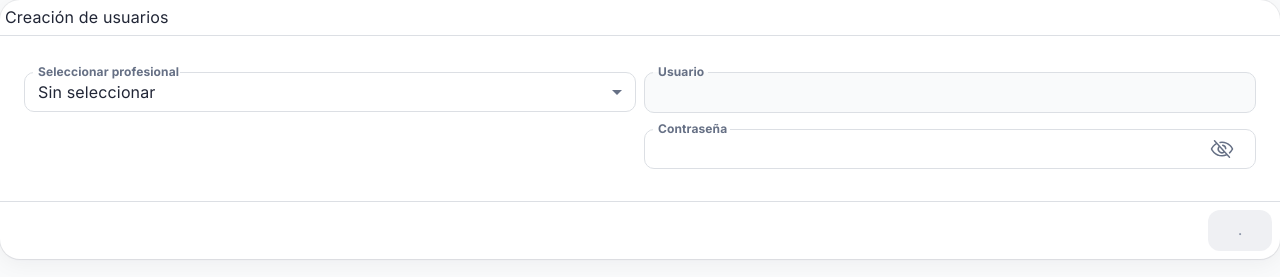
Test case: FormularioCrearUsuarios › actualiza credenciales existentes (hoy precarga la clave guardada)
The width and height of the screenshot is (1280, 277).
Click the dropdown labelled "Sin seleccionar": x=97, y=92 [38,82,156,102]
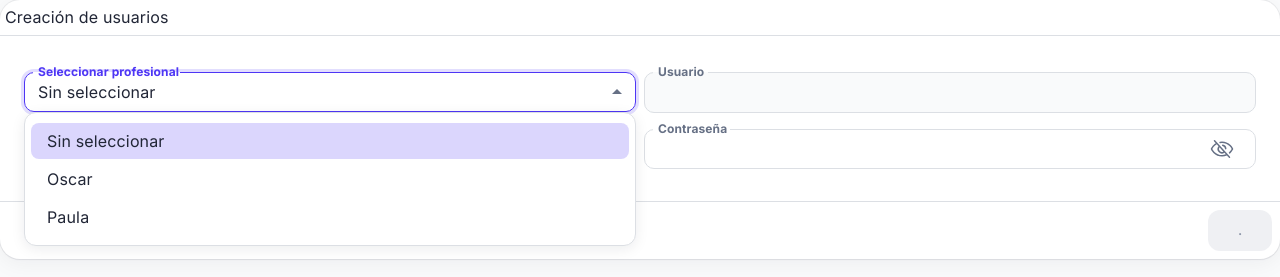
Click the option "Oscar": x=70, y=179 [47,169,93,189]
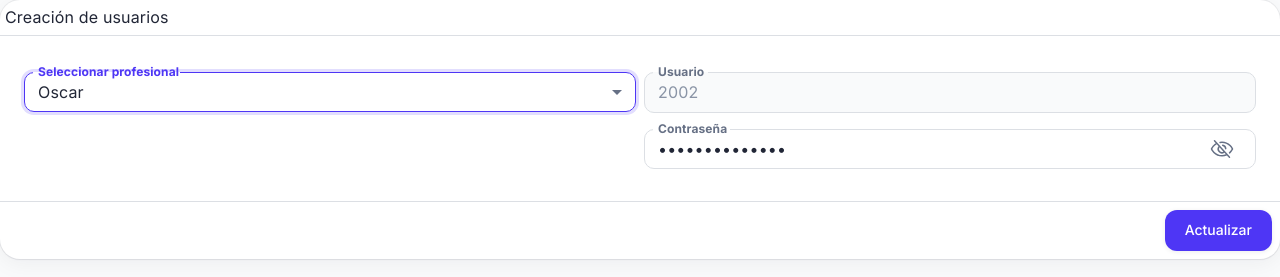
Expected: the list is gone
Expected: the button "Actualizar" is enabled, [1165,210,1272,251]
Expected: the password field labelled "Contraseña" holds "$argon2id$hash", [644,129,1202,169]
Click the button without text in the row of "Contraseña": x=1222, y=149 [1202,129,1242,169]
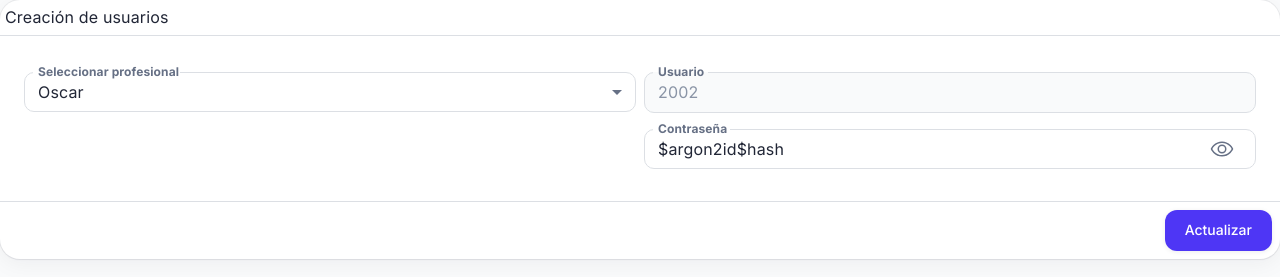
Expected: the field labelled "Contraseña" shows its text
Replace the text in the field labelled "Contraseña" with "Nueva456": x=923, y=149 [644,129,1202,169]
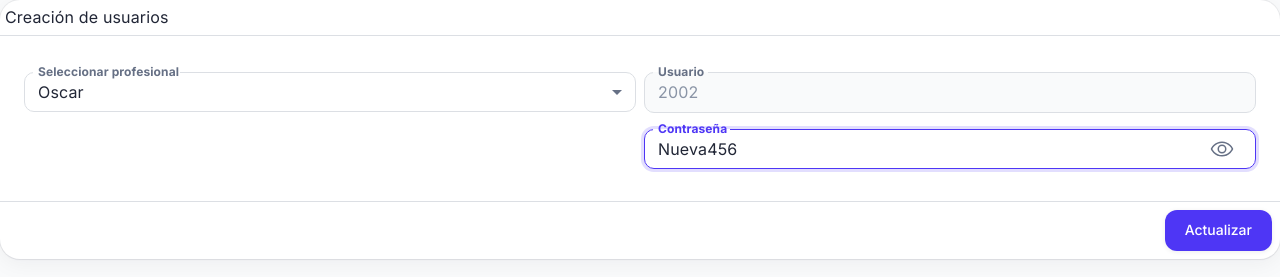
Click the button "Actualizar": x=1218, y=230 [1165,210,1272,251]
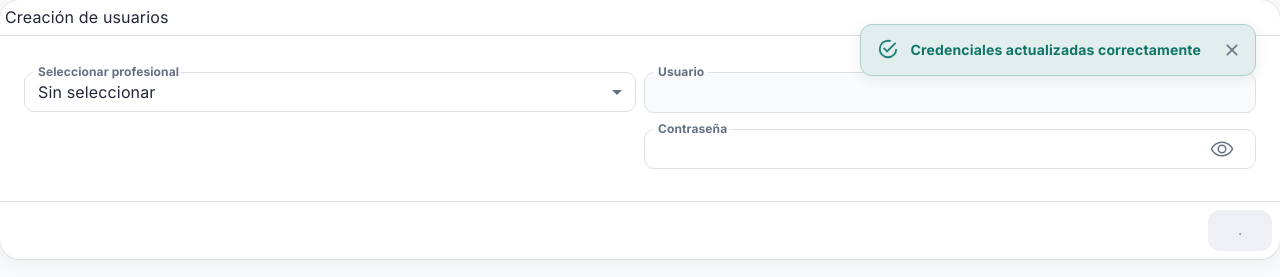
Expected: the text "Credenciales actualizadas correctamente" is shown, [910,41,1201,58]
